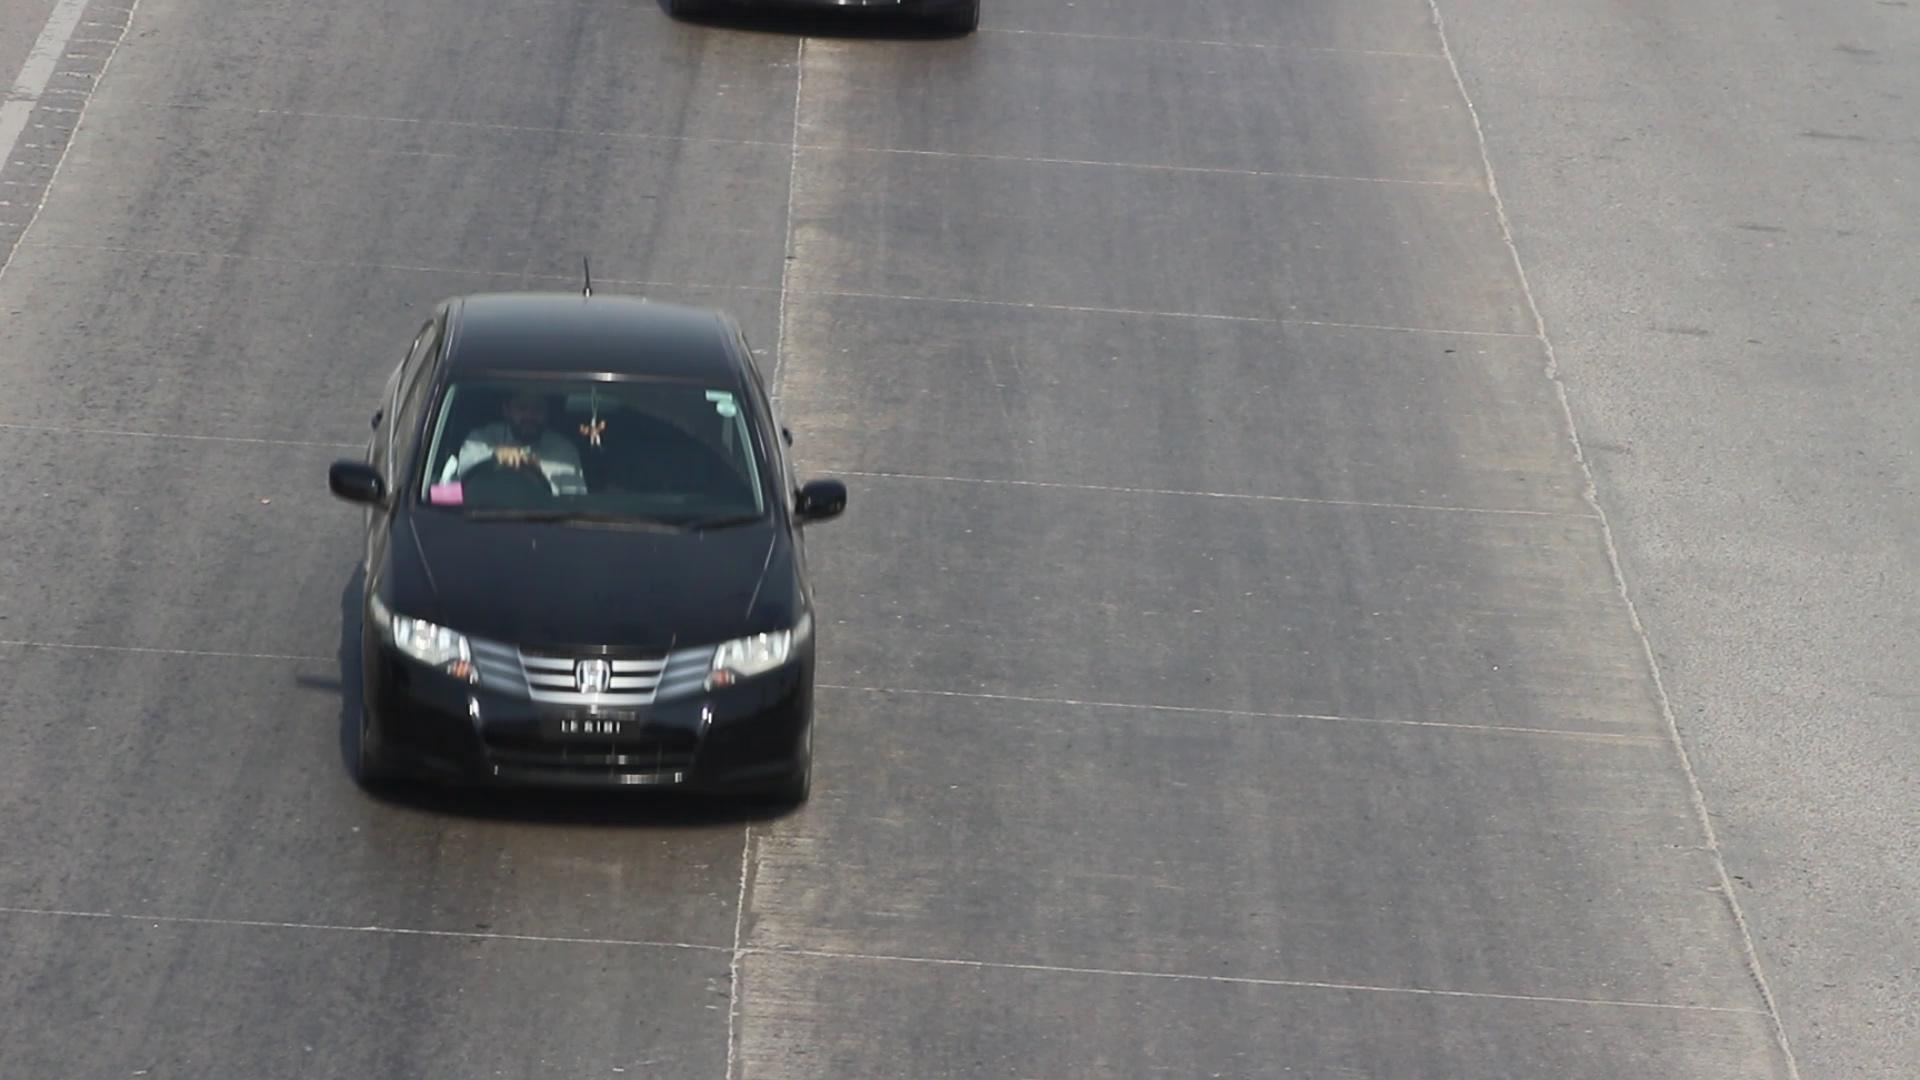windshield: (394, 340, 787, 530)
